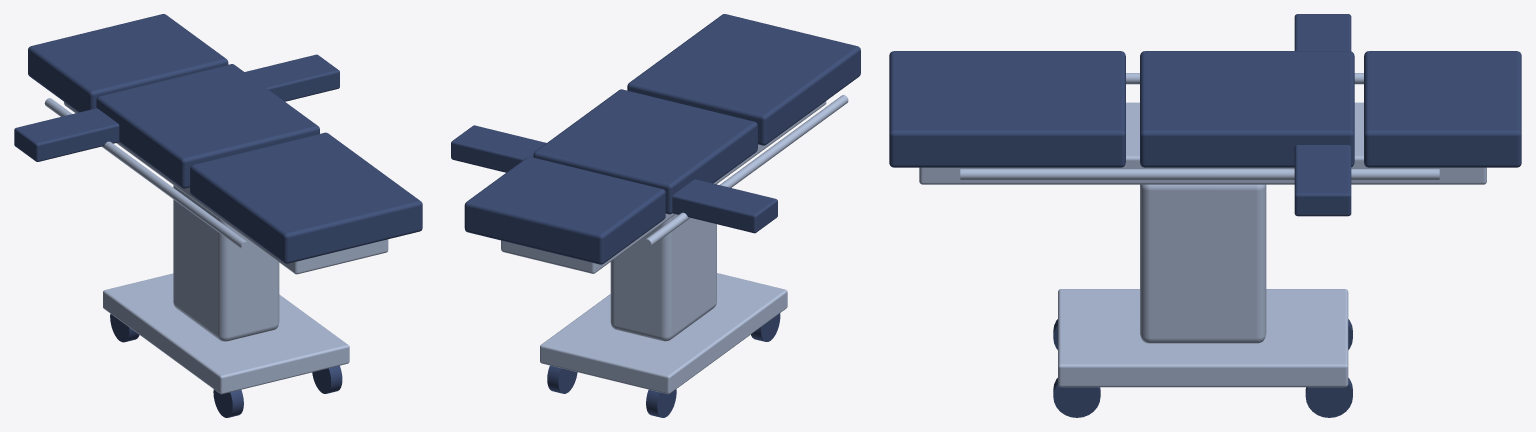
Rendered from table.glb.
The picture shows the model from 3 angles, left to right: view 1: azimuth 30°, elevation 25°; view 2: azimuth 150°, elevation 25°; view 3: azimuth 270°, elevation 25°; orthographic projection. The views are drawn at different scales.
Parts seen in each view (by area): view 1: segmented mattress (×3), base, pedestal, arm rest (×2), lift, rail, caster (×3); view 2: segmented mattress (×3), base, pedestal, arm rest (×2), rail, lift, caster (×3); view 3: segmented mattress (×3), base, pedestal, arm rest (×2), lift, rail, caster (×2).
Boxes of the visible parts, left/top/right/bottom form: segmented mattress (×3): left=28, top=14, right=422, bottom=263; base: left=103, top=273, right=349, bottom=394; pedestal: left=173, top=185, right=279, bottom=341; arm rest (×2): left=14, top=54, right=339, bottom=161; lift: left=64, top=102, right=388, bottom=274; rail: left=44, top=98, right=249, bottom=250; caster (×3): left=110, top=314, right=342, bottom=417; segmented mattress (×3): left=464, top=14, right=860, bottom=264; base: left=540, top=273, right=787, bottom=394; pedestal: left=610, top=214, right=716, bottom=341; arm rest (×2): left=451, top=125, right=777, bottom=233; rail: left=643, top=95, right=848, bottom=247; lift: left=501, top=101, right=826, bottom=273; caster (×3): left=547, top=313, right=780, bottom=417; segmented mattress (×3): left=889, top=51, right=1521, bottom=167; base: left=1058, top=289, right=1348, bottom=387; pedestal: left=1140, top=184, right=1266, bottom=343; arm rest (×2): left=1294, top=14, right=1351, bottom=216; lift: left=919, top=102, right=1486, bottom=184; rail: left=960, top=169, right=1439, bottom=180; caster (×2): left=1053, top=378, right=1352, bottom=417.
Size of the model in its own units: 1.36 by 1.03 by 2.
